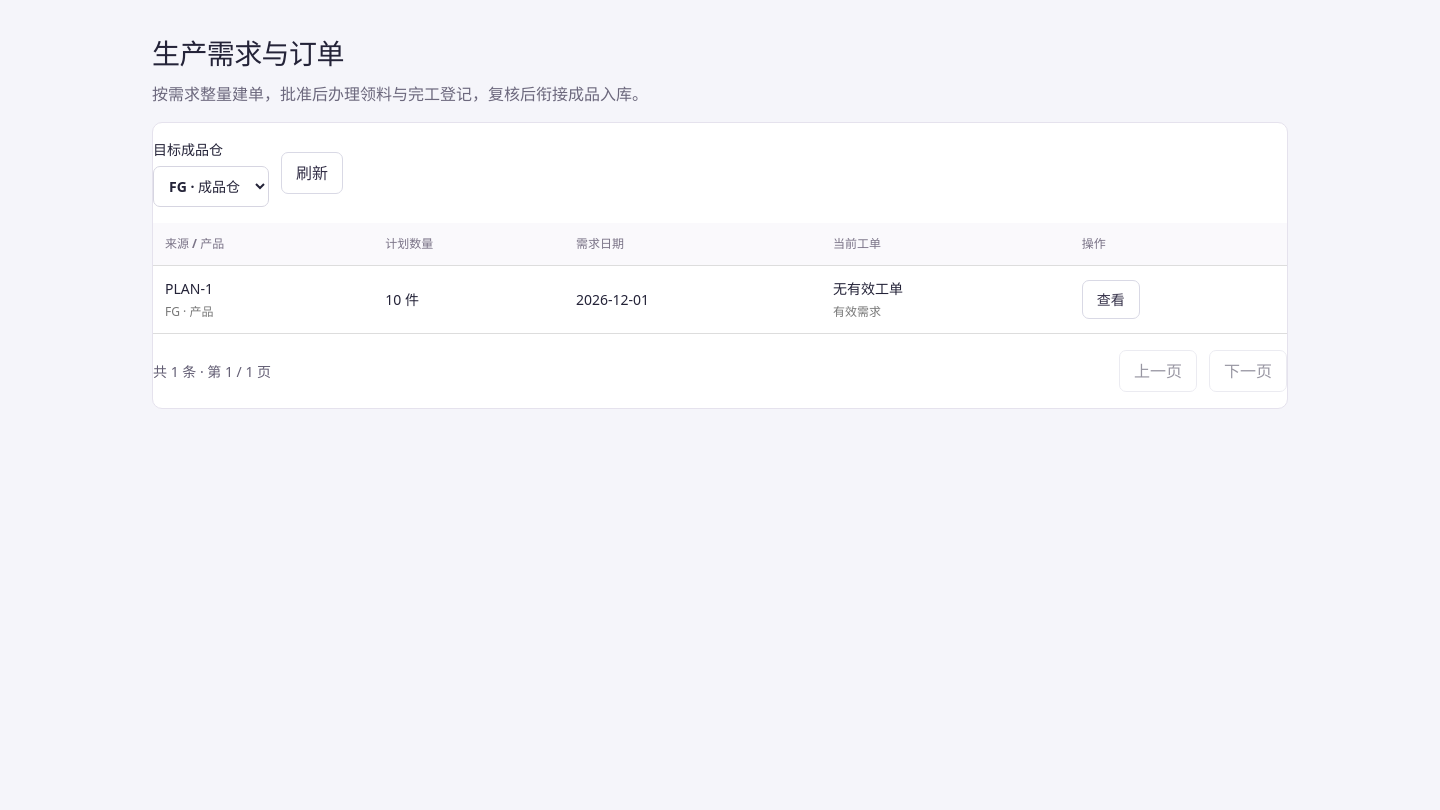
Test: clears actionable detail after a rejected write
The width and height of the screenshot is (1440, 810).
Click the button "查看".
click(1111, 300)  # box [1082, 280, 1140, 319]
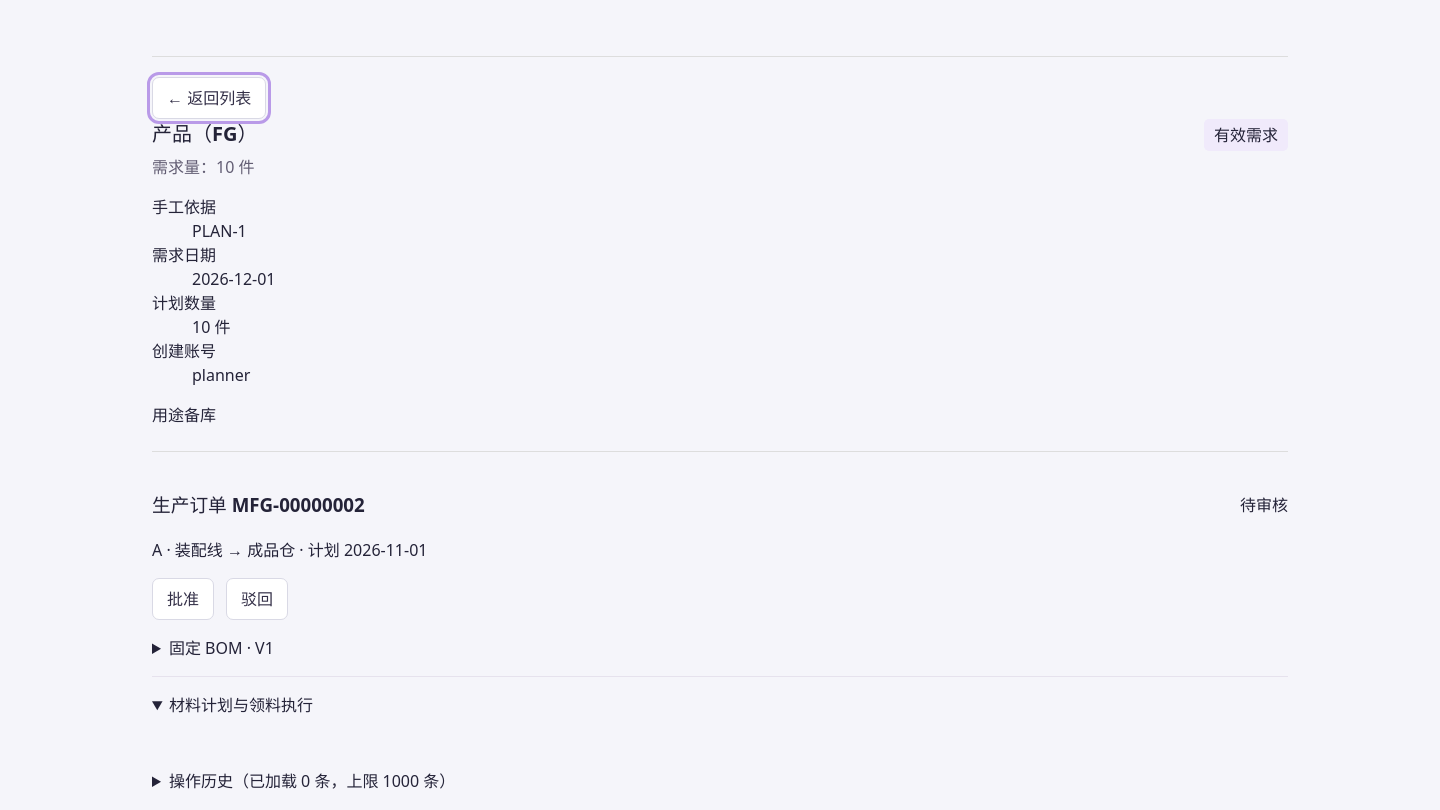
Click the button "批准".
click(183, 598)  # box [152, 578, 214, 620]
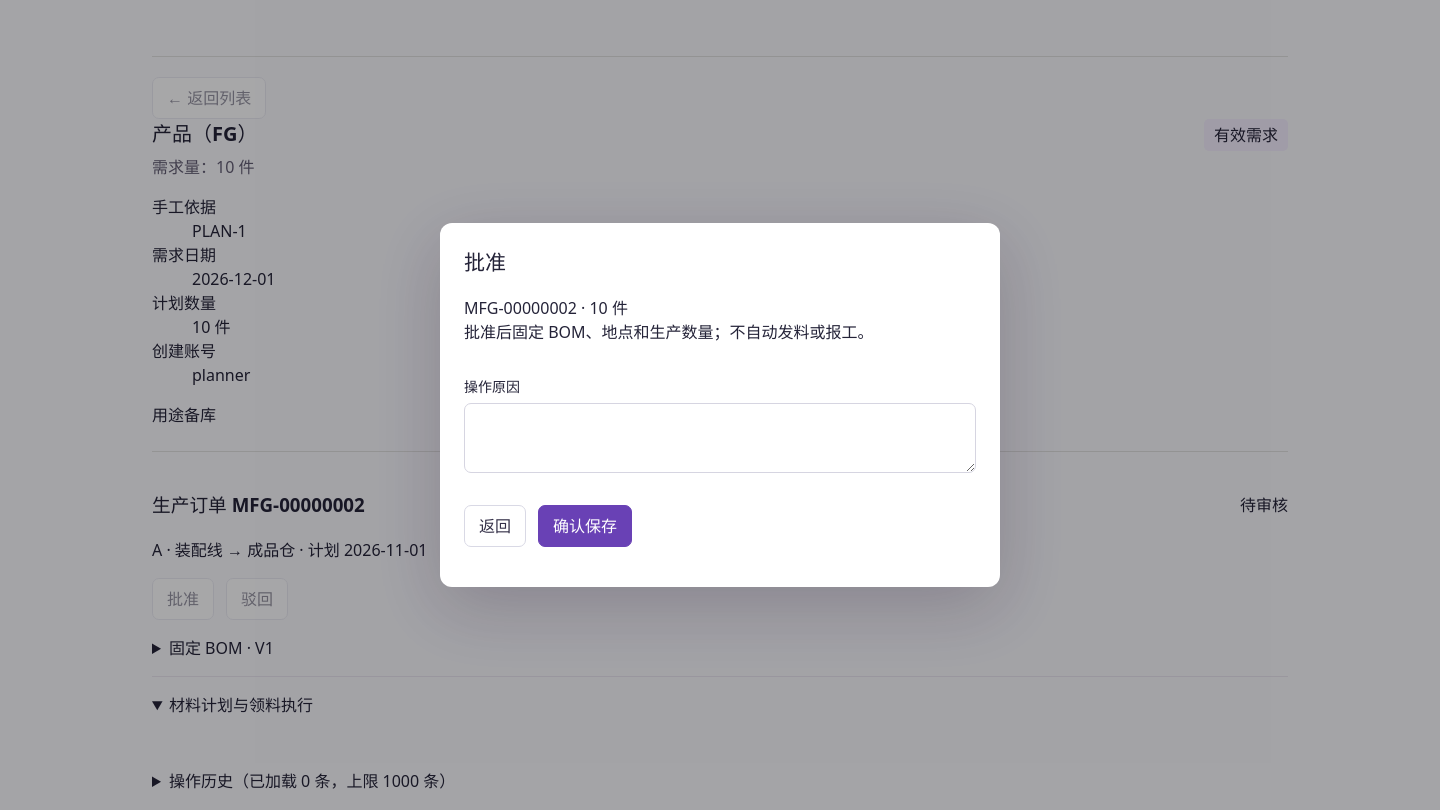
Type "审核" into the text box labelled "操作原因".
click(720, 438); type("审核")  # box [464, 403, 976, 473]
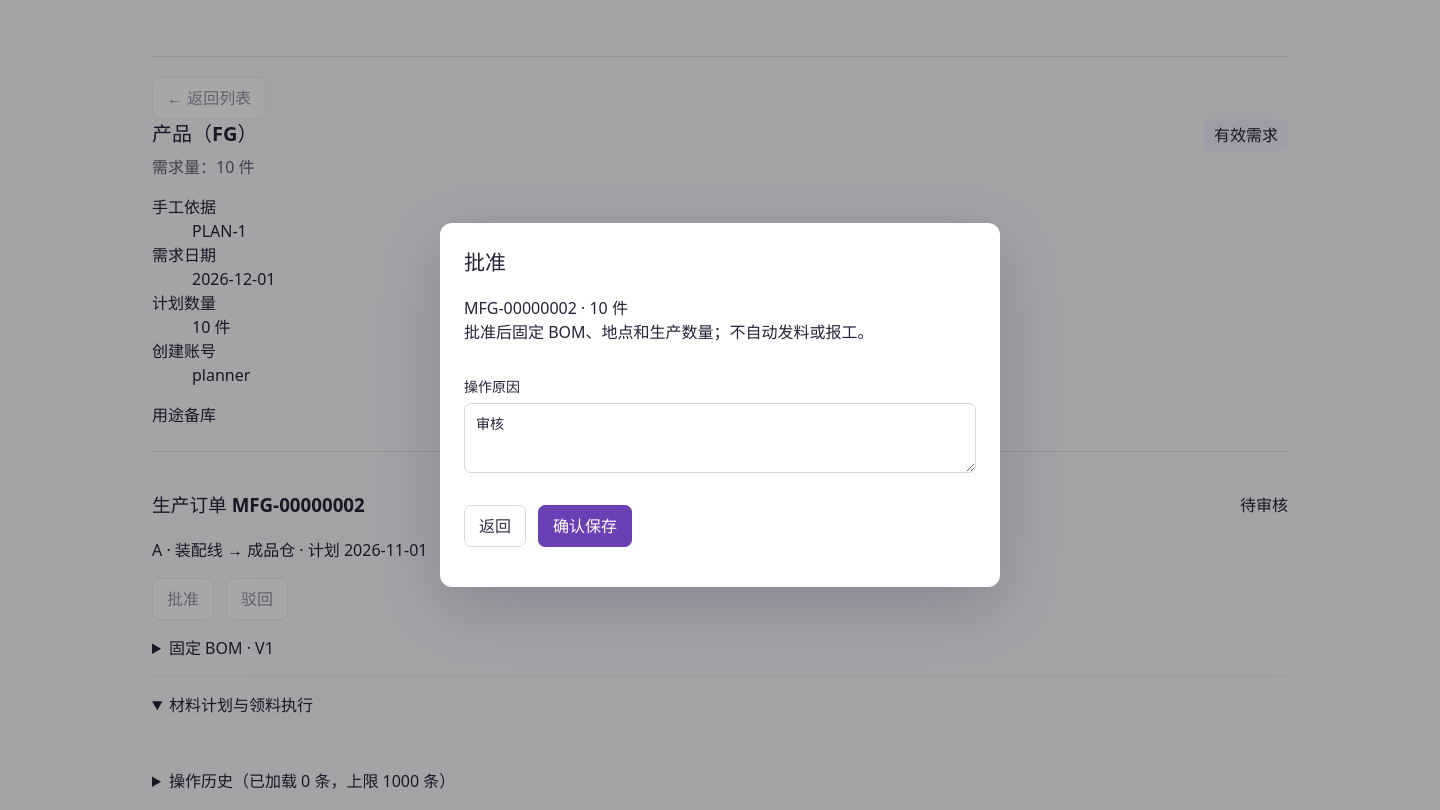
Submit the form, box [464, 296, 976, 563]
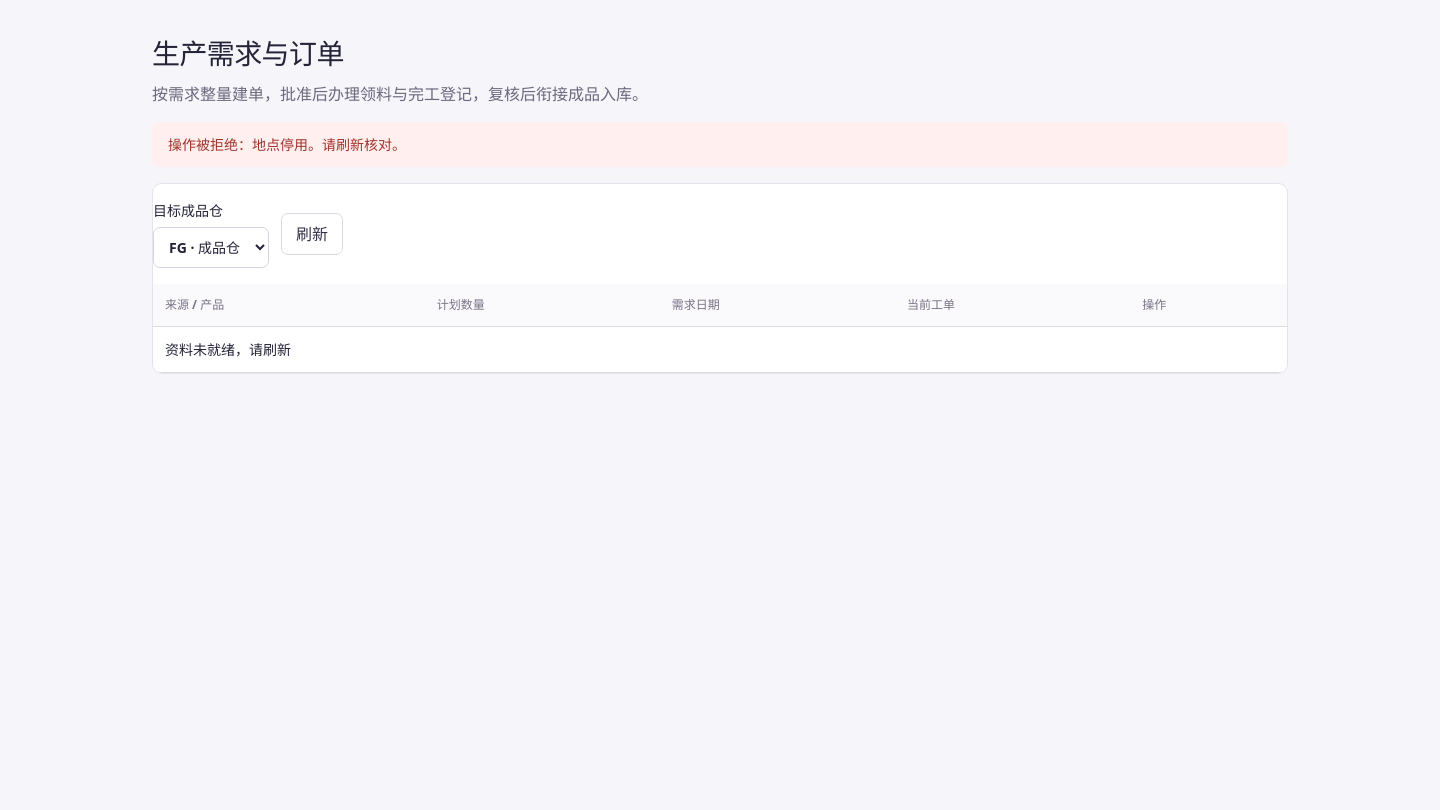
Now the text "地点停用" is shown, box [168, 135, 406, 154]
